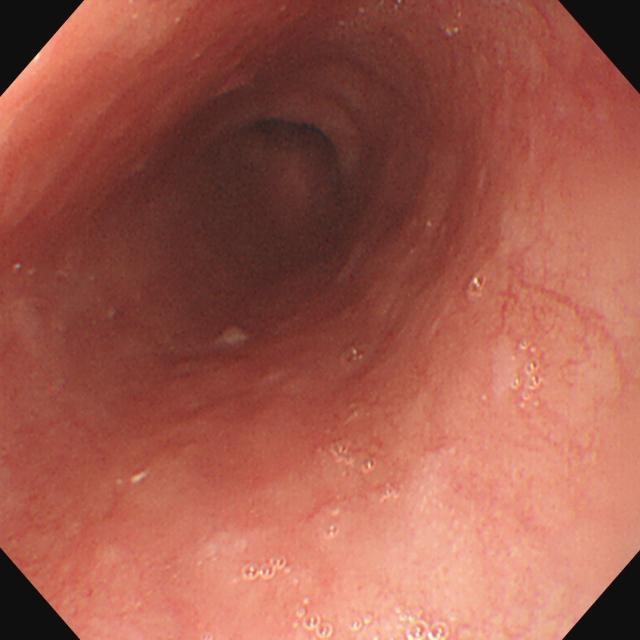E: (196, 102, 360, 267)
T: (290, 596, 451, 640), (514, 336, 548, 410), (332, 438, 380, 477), (239, 552, 291, 581), (466, 272, 488, 300), (341, 345, 367, 364)
